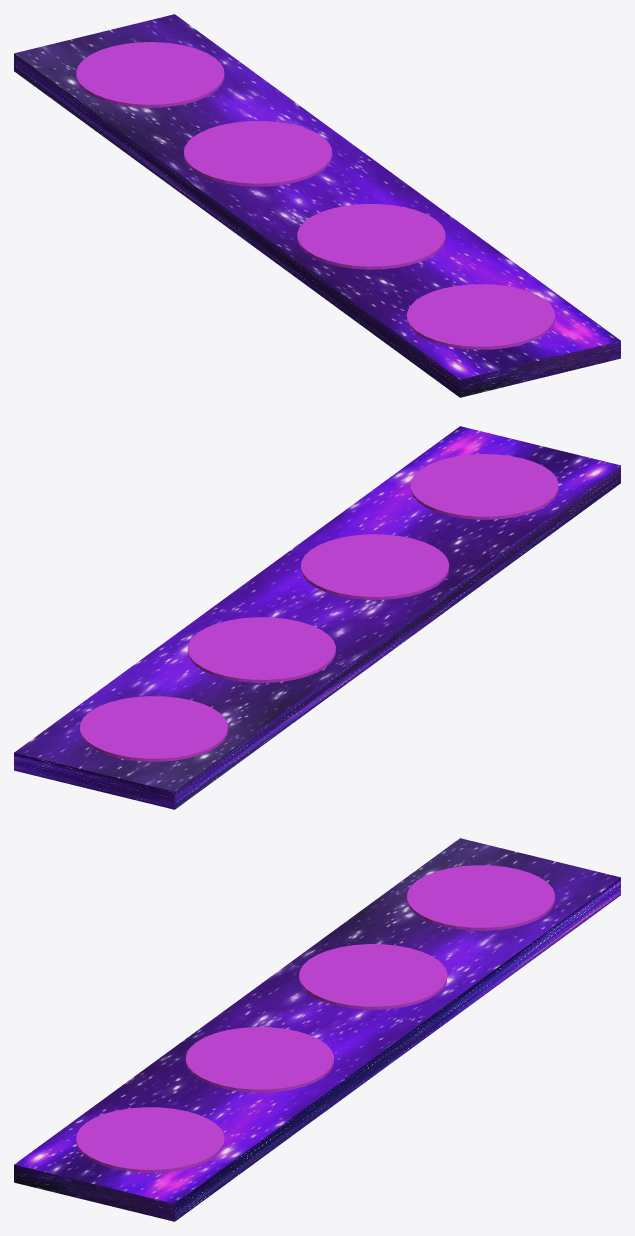
Rendered from taptapv1.fbx.
3 views of the same model, one above another, from view 1: azimuth 30°, elevation 25°; view 2: azimuth 150°, elevation 25°; view 3: azimuth 330°, elevation 25° (orthographic).
Parts seen in each view (by area): view 1: Cube, Cylinder, Cylinder.001, Cylinder.002, Cylinder.003; view 2: Cube, Cylinder.003, Cylinder.002, Cylinder, Cylinder.001; view 3: Cube, Cylinder.002, Cylinder, Cylinder.001, Cylinder.003.
Part boxes in pixels (bbox=[...]): Cube: bbox=[14, 14, 620, 397]; Cylinder: bbox=[407, 284, 554, 349]; Cylinder.001: bbox=[297, 204, 445, 269]; Cylinder.002: bbox=[184, 121, 332, 186]; Cylinder.003: bbox=[76, 42, 224, 107]; Cube: bbox=[14, 426, 620, 809]; Cylinder.003: bbox=[80, 696, 227, 761]; Cylinder.002: bbox=[187, 617, 335, 682]; Cylinder: bbox=[410, 454, 558, 519]; Cylinder.001: bbox=[301, 534, 449, 599]; Cube: bbox=[14, 838, 620, 1221]; Cylinder.002: bbox=[299, 944, 447, 1009]; Cylinder: bbox=[76, 1107, 224, 1172]; Cylinder.001: bbox=[185, 1027, 333, 1092]; Cylinder.003: bbox=[407, 865, 554, 930].
Size of the model in its own units: 200 by 24.88 by 961.
5 materials, 1 textured.
